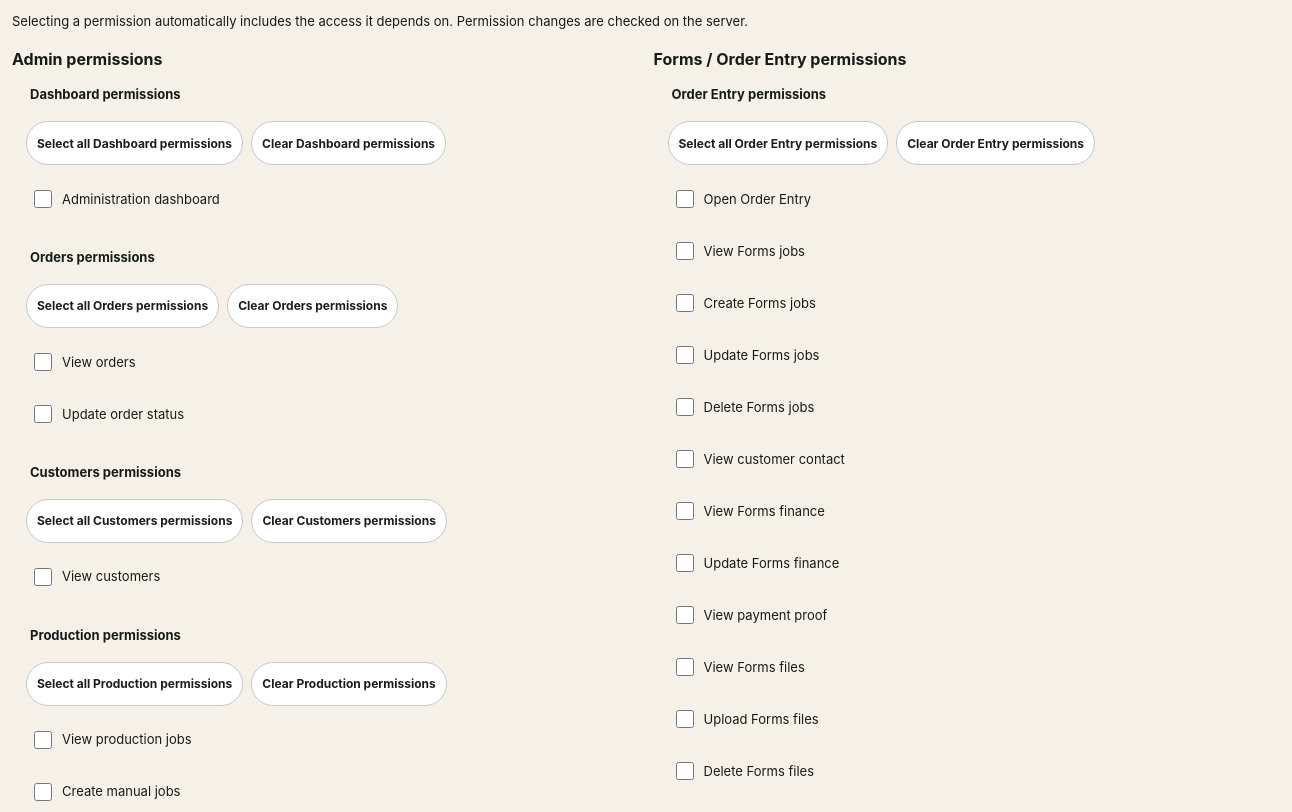
Test: EmployeeAccessFields › selects the documented Admin dependencies when an individual permission is chosen
Click the checkbox labelled "Update order status": (43, 414) left=34, top=405, right=52, bottom=423
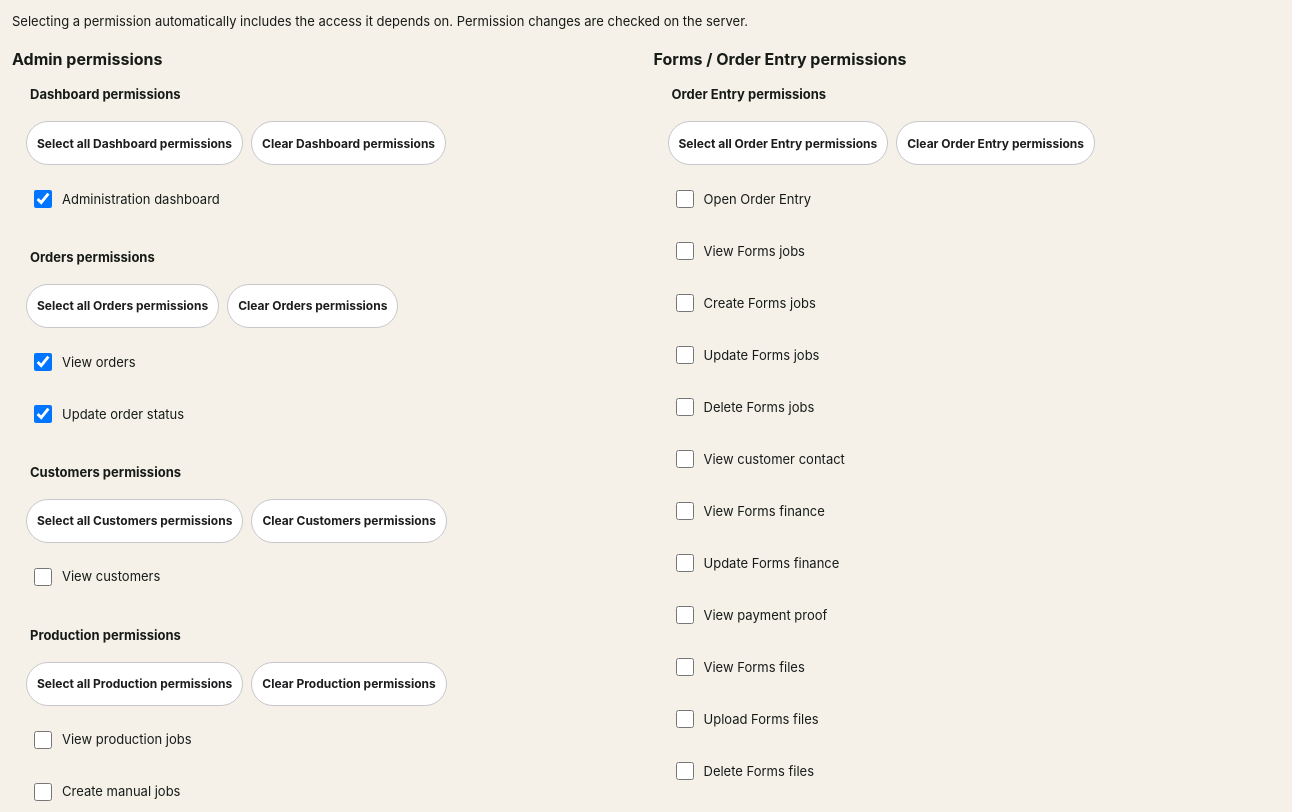
Expected: the checkbox labelled "Update order status" is checked, left=34, top=405, right=52, bottom=423
Expected: the checkbox labelled "View orders" is checked, left=34, top=353, right=52, bottom=371
Expected: the checkbox labelled "Administration dashboard" is checked, left=34, top=190, right=52, bottom=208
